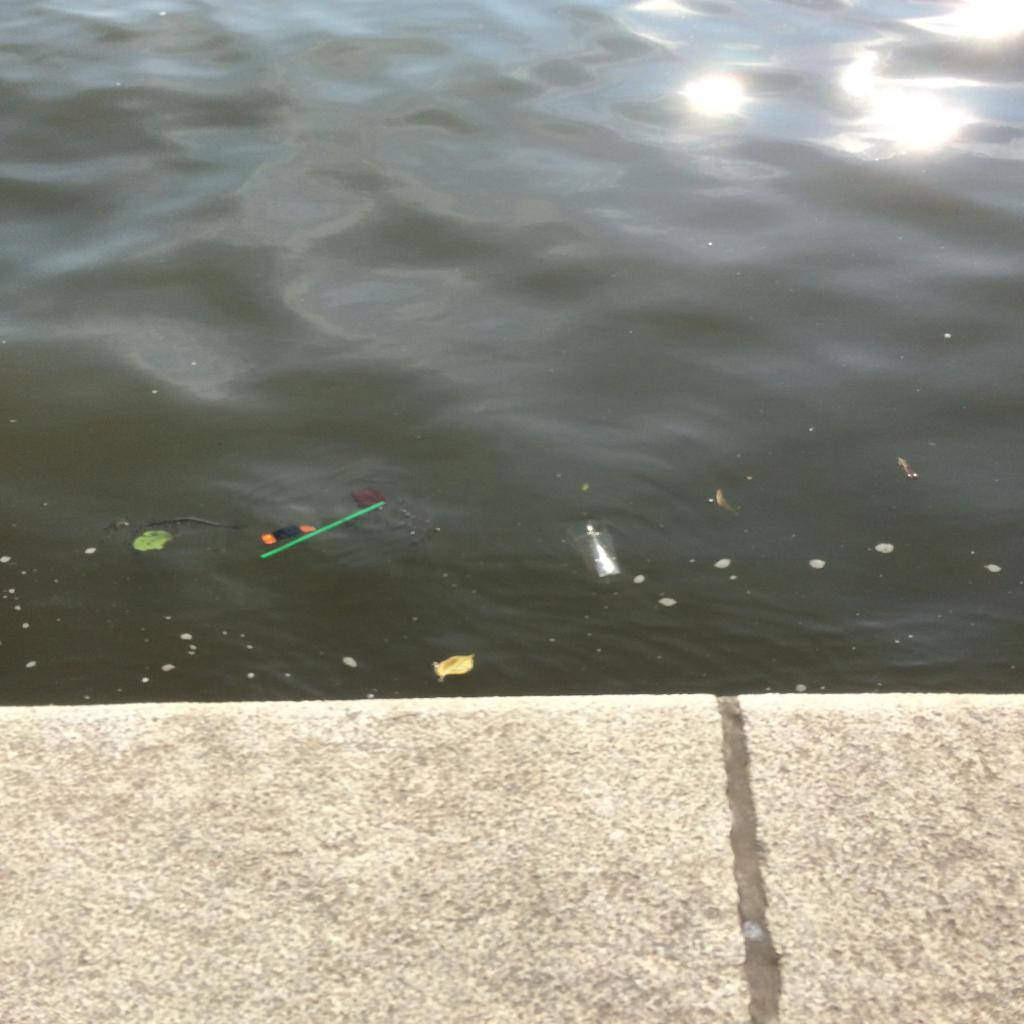Disposable plastic cup: (567, 520, 622, 580)
Other plastic wrapper: (262, 525, 316, 544)
Plastic straw: (260, 501, 386, 559)
